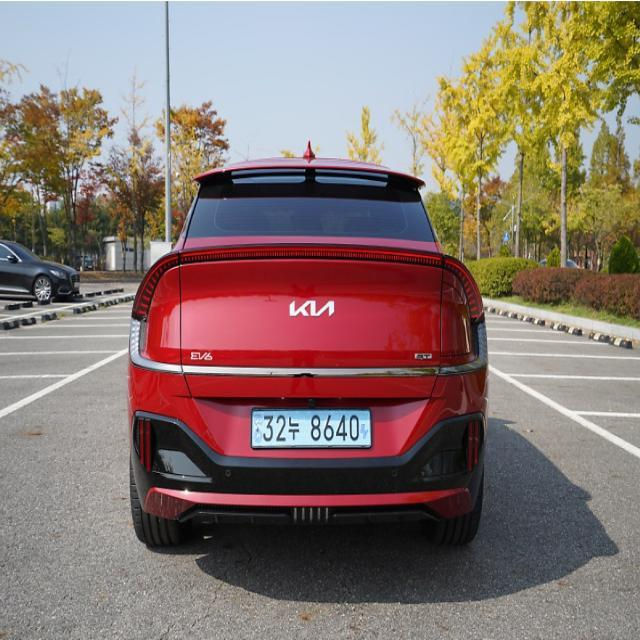car: (231, 399, 392, 467)
carev: (252, 408, 263, 448), (359, 407, 370, 446)
